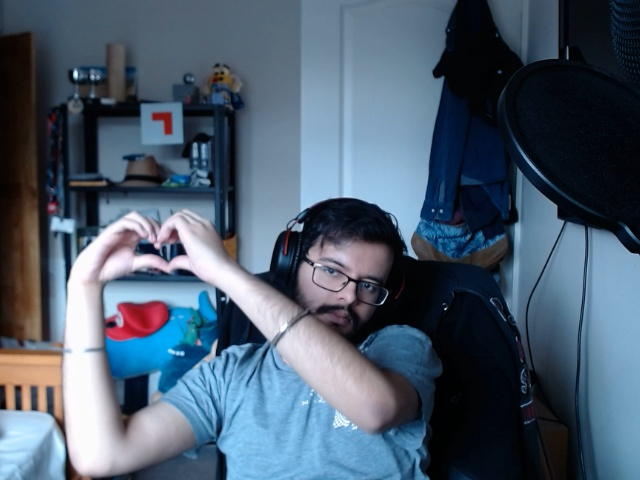Heart: (83, 207, 227, 281)
